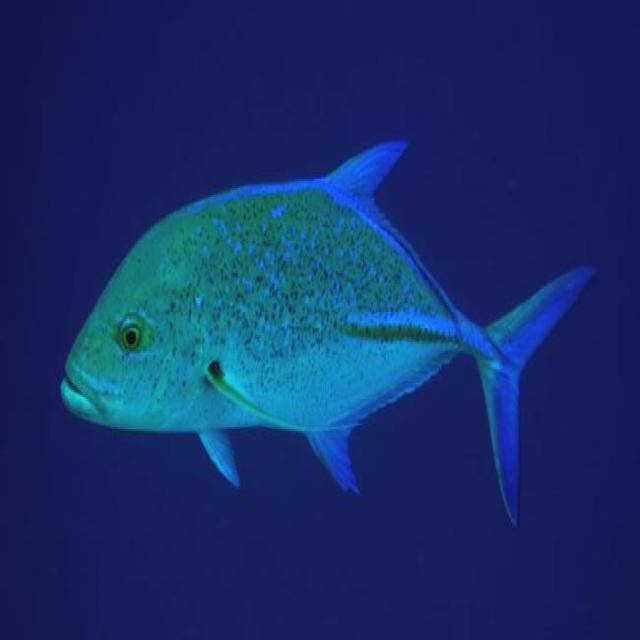ikan: (47, 110, 610, 552)
